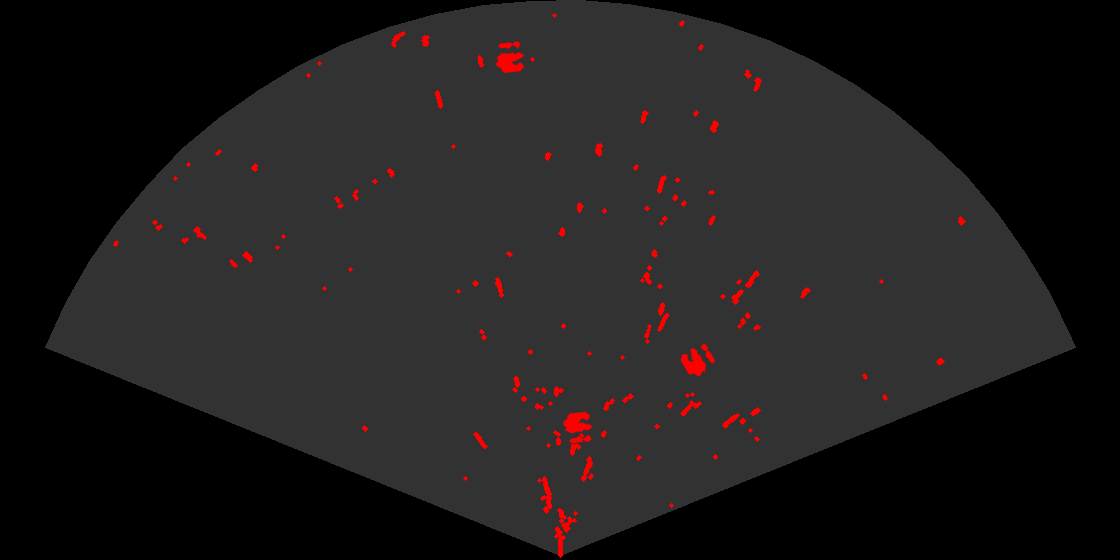ball: (679, 342, 717, 378), (494, 40, 526, 75), (562, 410, 594, 445)
